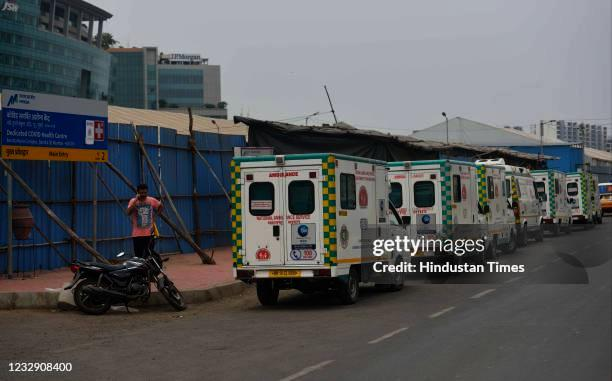ambulance: (231, 153, 356, 298)
